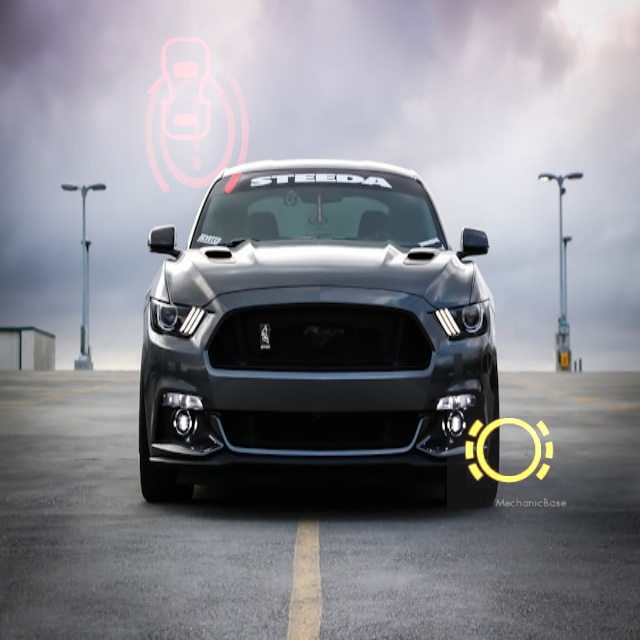symbol: (93, 23, 300, 230), (110, 16, 262, 168), (447, 389, 571, 513)
